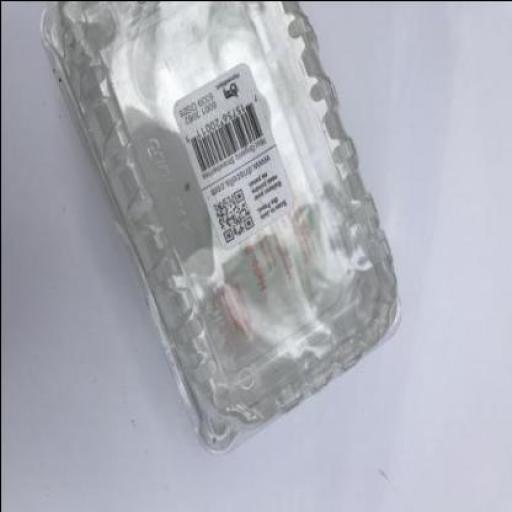plastic: (38, 2, 403, 457)
